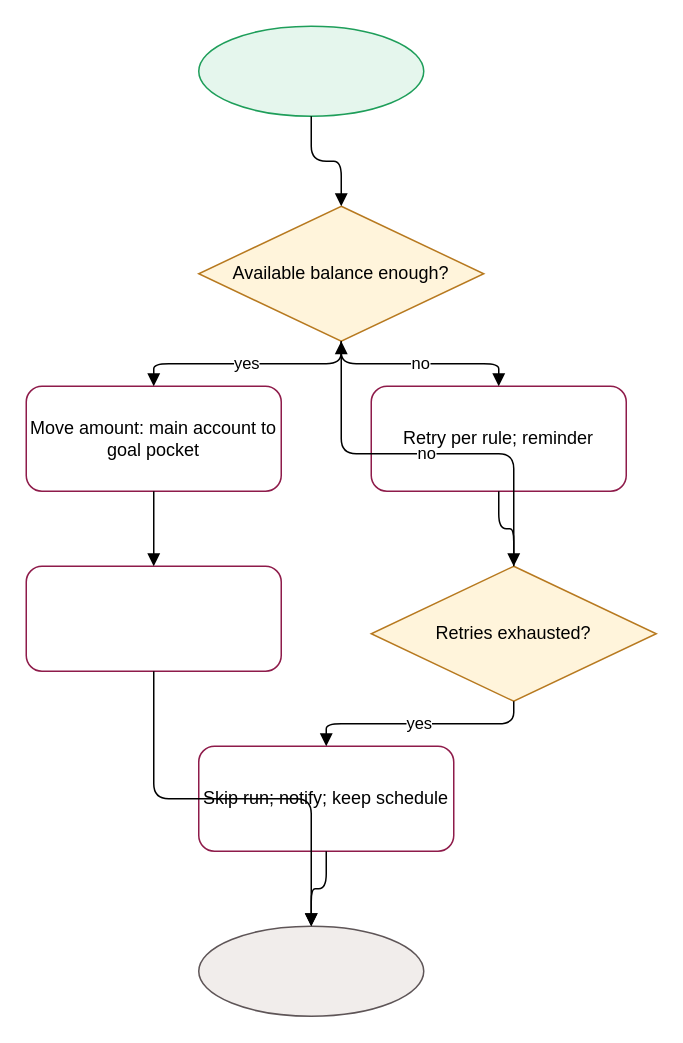
The diagram is 683 pixels wide and 1043 high, and some of its shapes have lost their labels. The shapes that lost their labels are listed below. From the top down, each one's centre as x and y in pixels, then its label:
(310,70): Auto-save due
(153,618): Notify and update progress
(310,970): Done
